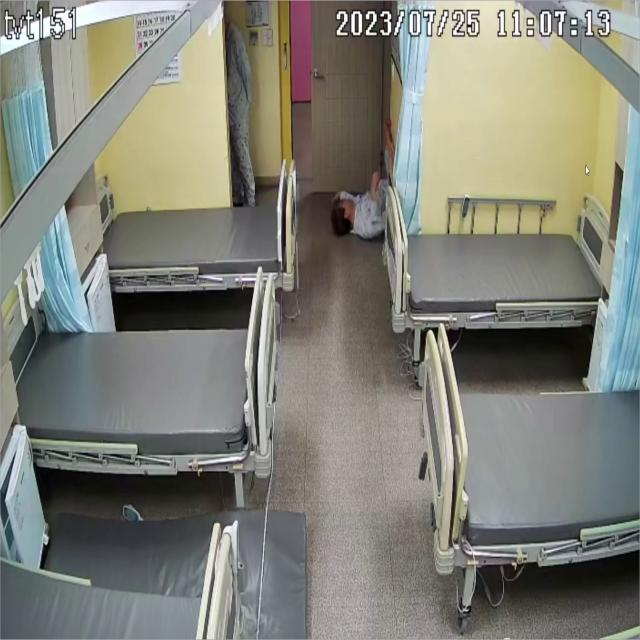bed: (420, 324, 640, 569), (14, 318, 278, 470), (382, 213, 616, 332), (105, 192, 294, 290)
fall: (333, 174, 392, 261)
patient: (227, 0, 260, 205), (332, 171, 392, 264)
